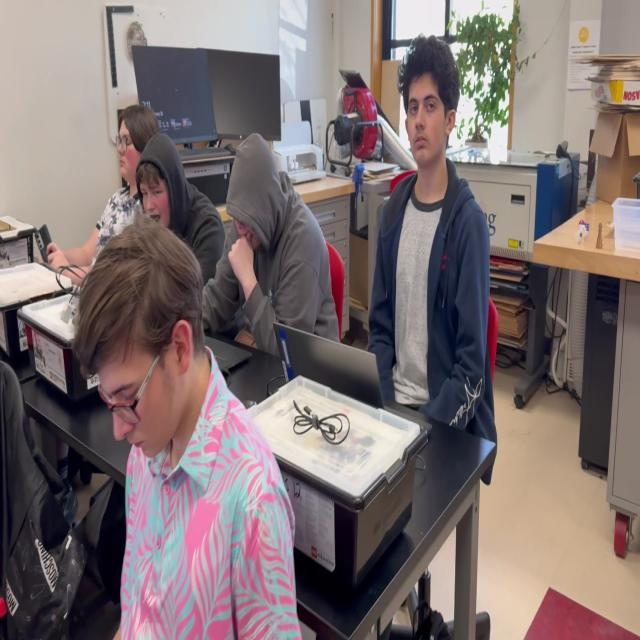pen: (34, 223, 57, 272)
